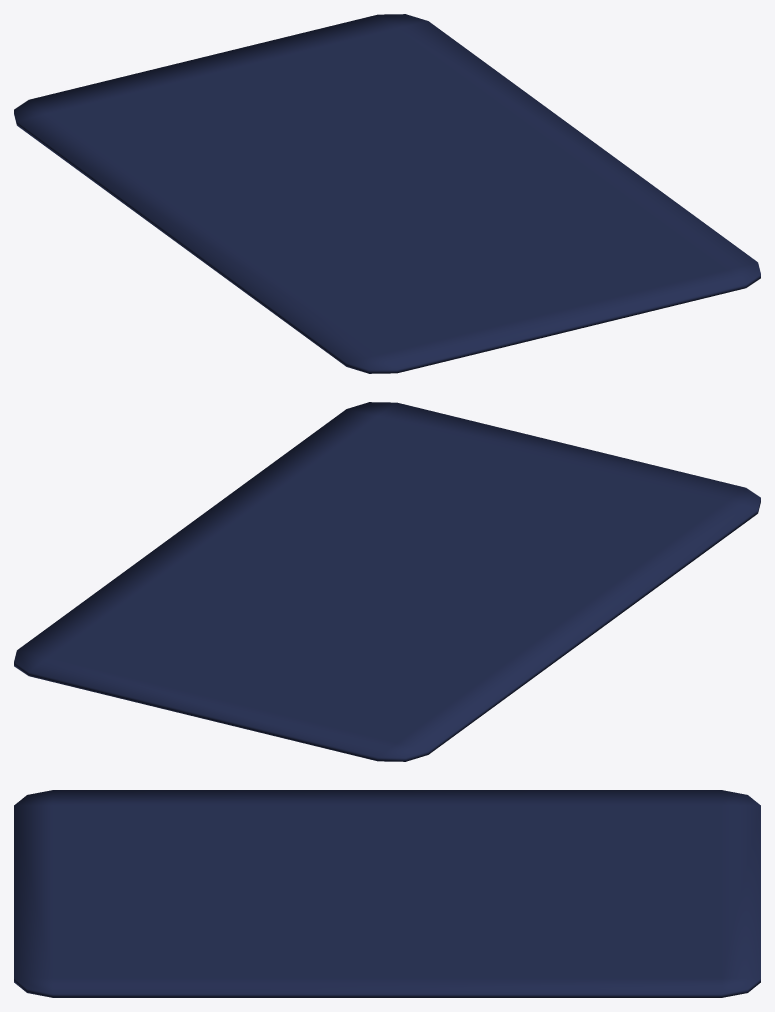
Rendered from UI_Upgrade_Card.fbx.
3 renders of one model, top to bottom at view 1: azimuth 30°, elevation 25°; view 2: azimuth 150°, elevation 25°; view 3: azimuth 270°, elevation 25°, orthographic.
Visible parts, largest first — view 1: UI_Upgrade_Card; view 2: UI_Upgrade_Card; view 3: UI_Upgrade_Card.
Part boxes in pixels (x1,y1,x2,y2): UI_Upgrade_Card: (14,14,760,373); UI_Upgrade_Card: (14,402,760,761); UI_Upgrade_Card: (14,790,760,997).
Size of the model in its own units: 13.1 by 20.3 by 0.125.
